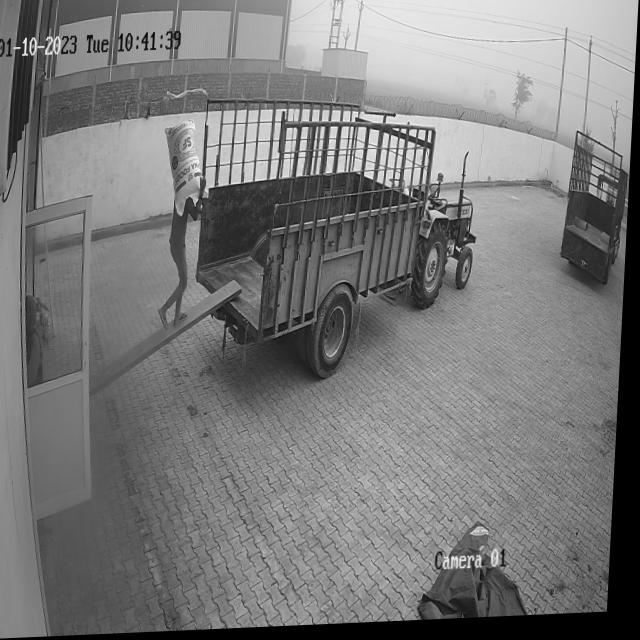sack: (162, 122, 207, 218)
